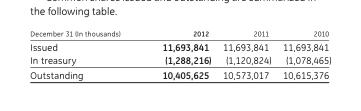table: (29, 28, 330, 80)
table column: (29, 28, 140, 80), (140, 28, 216, 80), (216, 28, 276, 80), (276, 28, 330, 80)
table column header: (29, 28, 330, 38)
table row: (29, 38, 330, 52), (29, 52, 330, 66), (29, 66, 330, 80), (29, 28, 330, 38)
